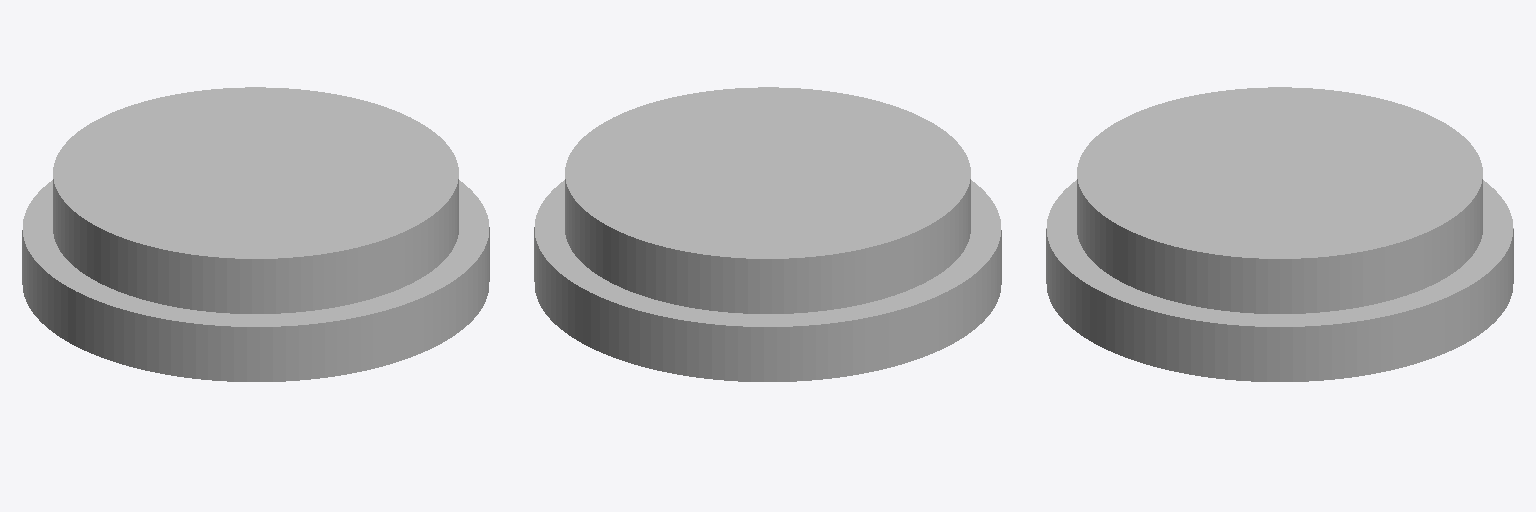
Rendered from TestBlade2.obj.
3 renders of one model, left to right at view 1: azimuth 30°, elevation 25°; view 2: azimuth 150°, elevation 25°; view 3: azimuth 270°, elevation 25°, orthographic.
Size of the model in its own units: 2.3 by 0.9 by 2.3.